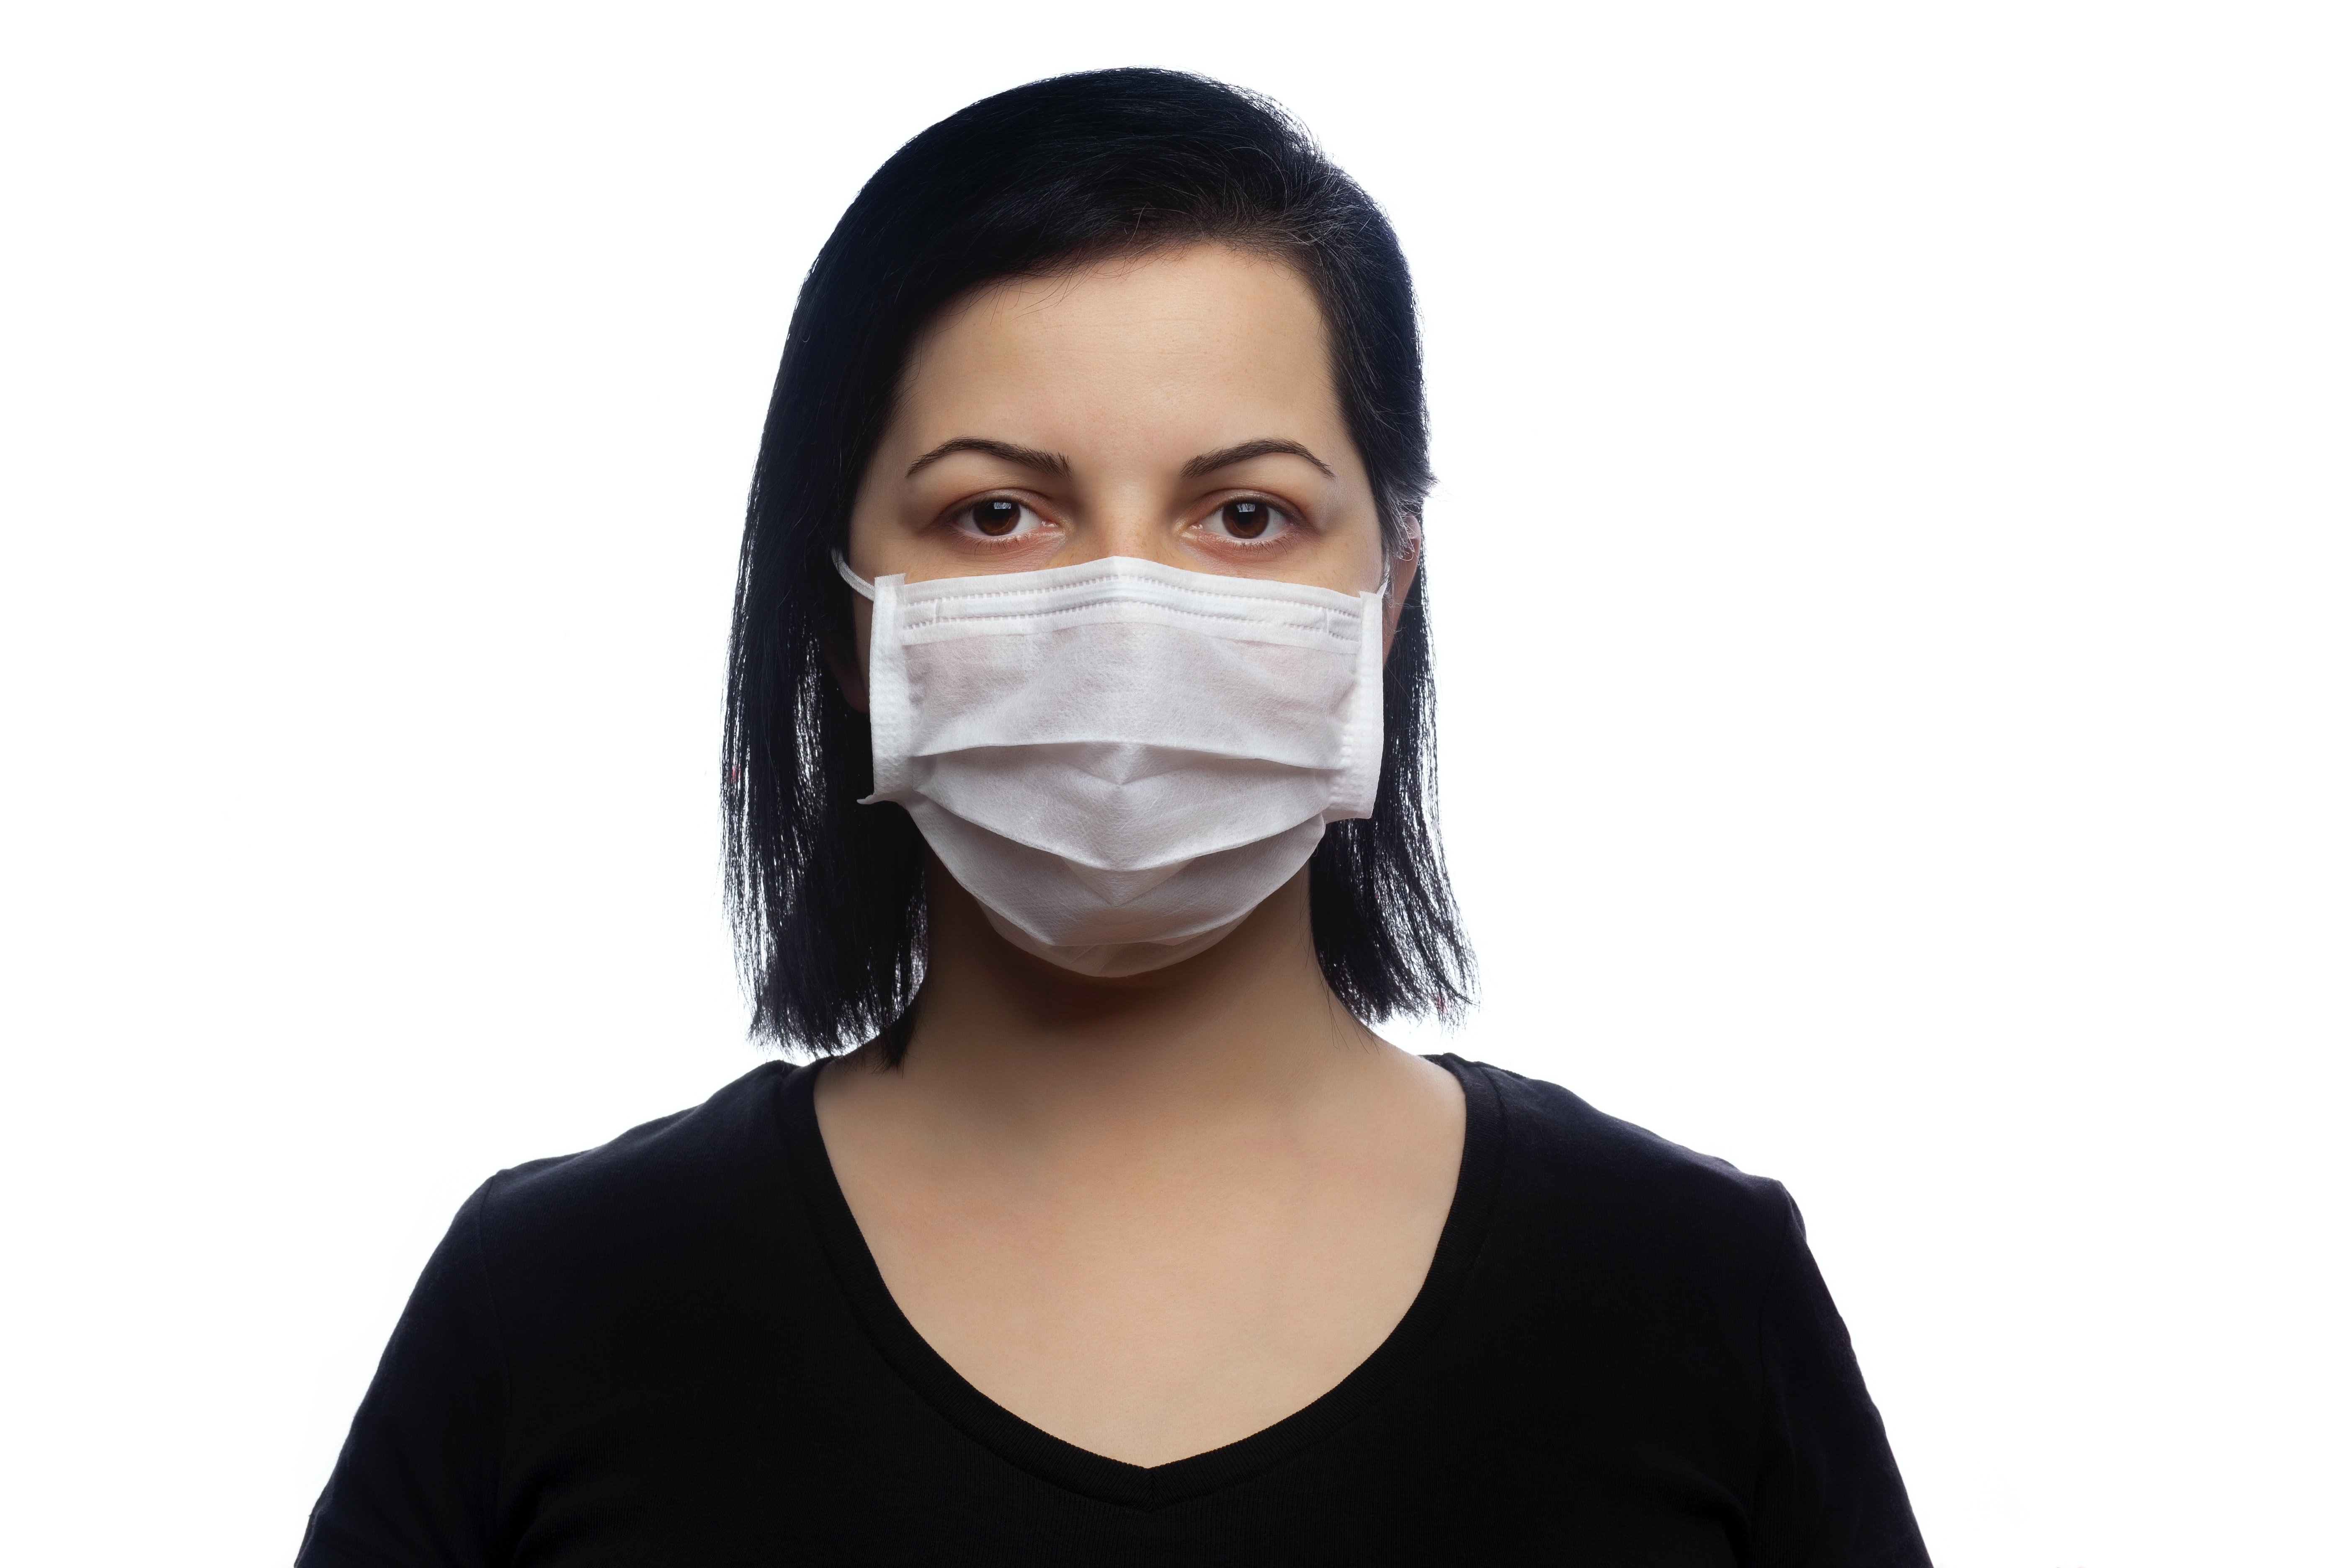mask: (815, 577, 1390, 942)
person: (173, 62, 1978, 1567)
